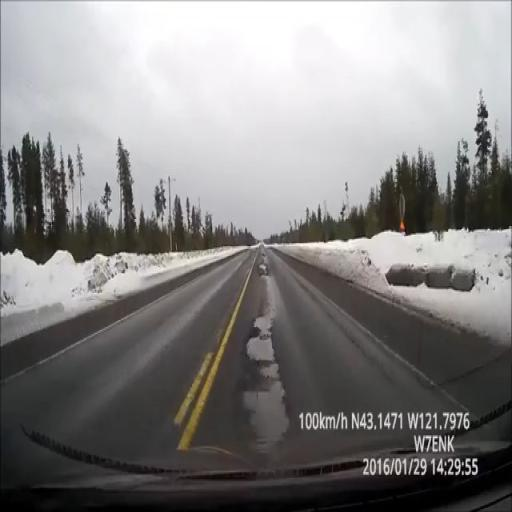Potholes: (240, 283, 289, 451)
